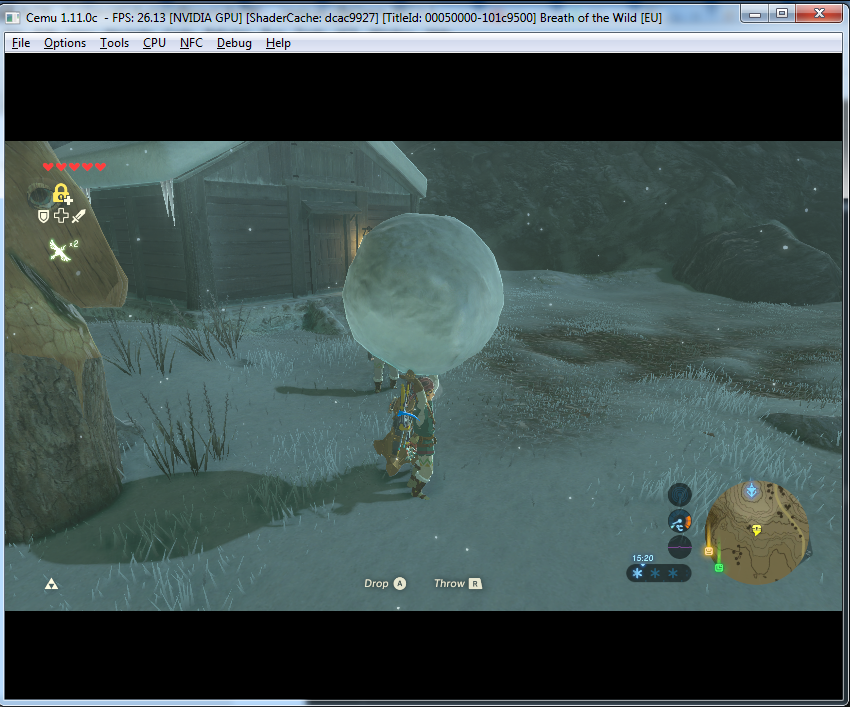link: (381, 371, 460, 501)
snowball: (341, 216, 507, 379)
totem: (2, 143, 131, 547)
